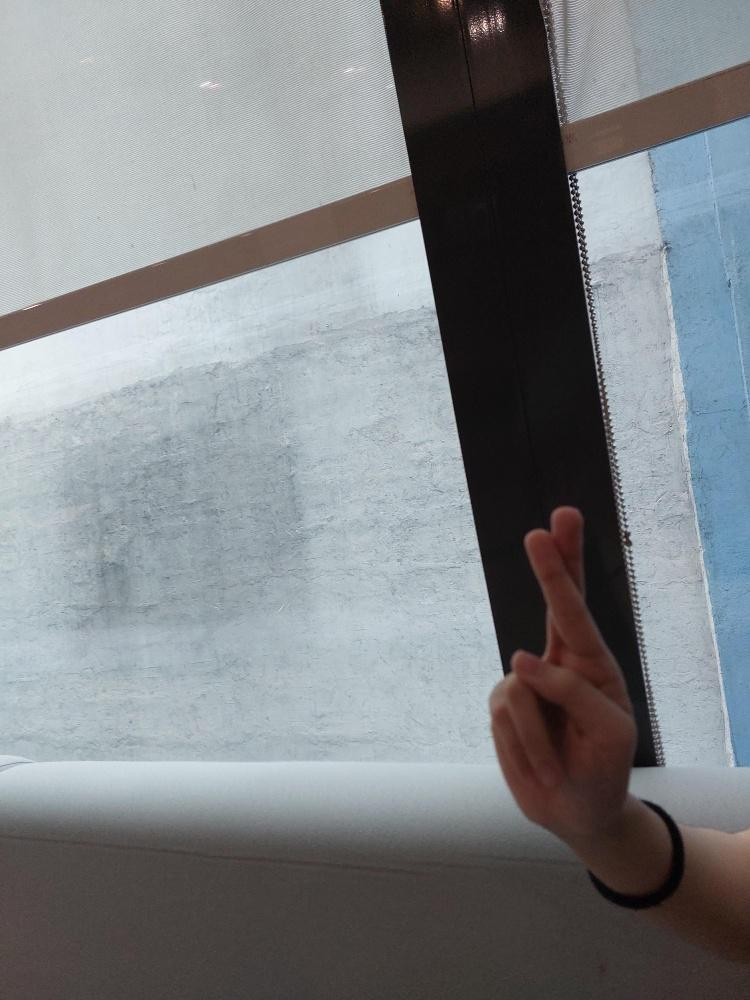r: (488, 503, 636, 822)
